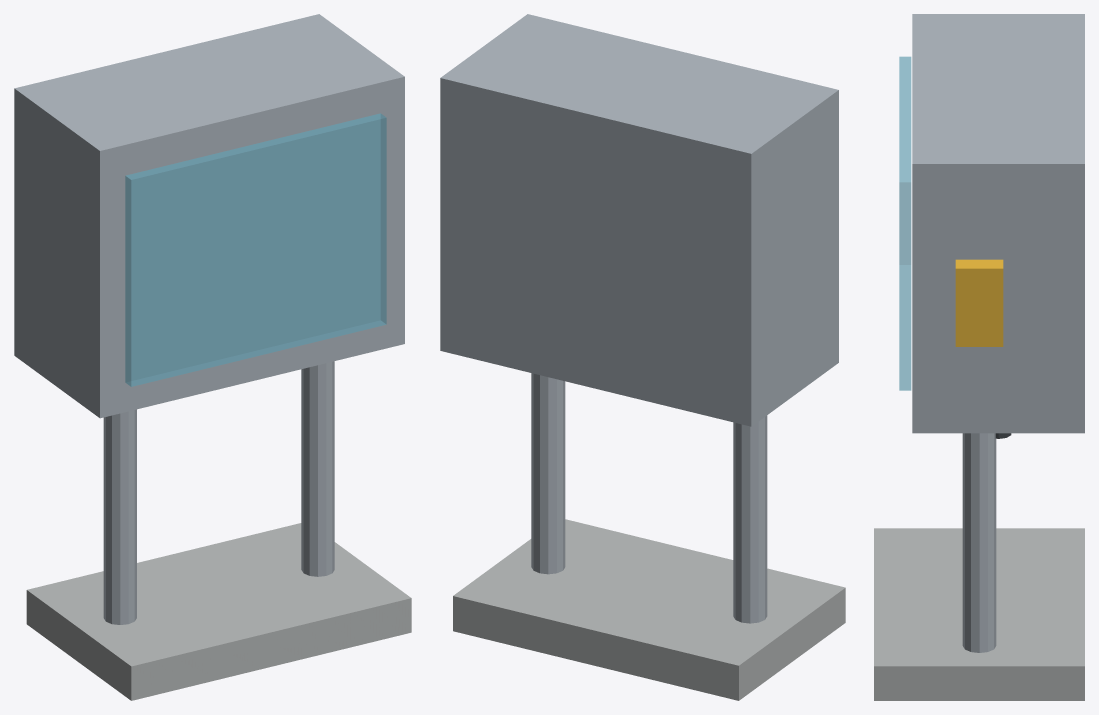
The model's file is ENERGY-008.glb.
The picture shows the model from 3 angles, left to right: view 1: azimuth 30°, elevation 25°; view 2: azimuth 150°, elevation 25°; view 3: azimuth 270°, elevation 25°; orthographic projection. The views are drawn at different scales.
Parts seen in each view (by area): view 1: ENERGY-008; view 2: ENERGY-008; view 3: ENERGY-008.
Boxes of the visible parts, left/top/right/bottom form: ENERGY-008: left=14, top=14, right=411, bottom=700; ENERGY-008: left=440, top=14, right=845, bottom=700; ENERGY-008: left=874, top=14, right=1084, bottom=700.
Bounding box in the file's own units: 0.785 × 1.25 × 0.44.
